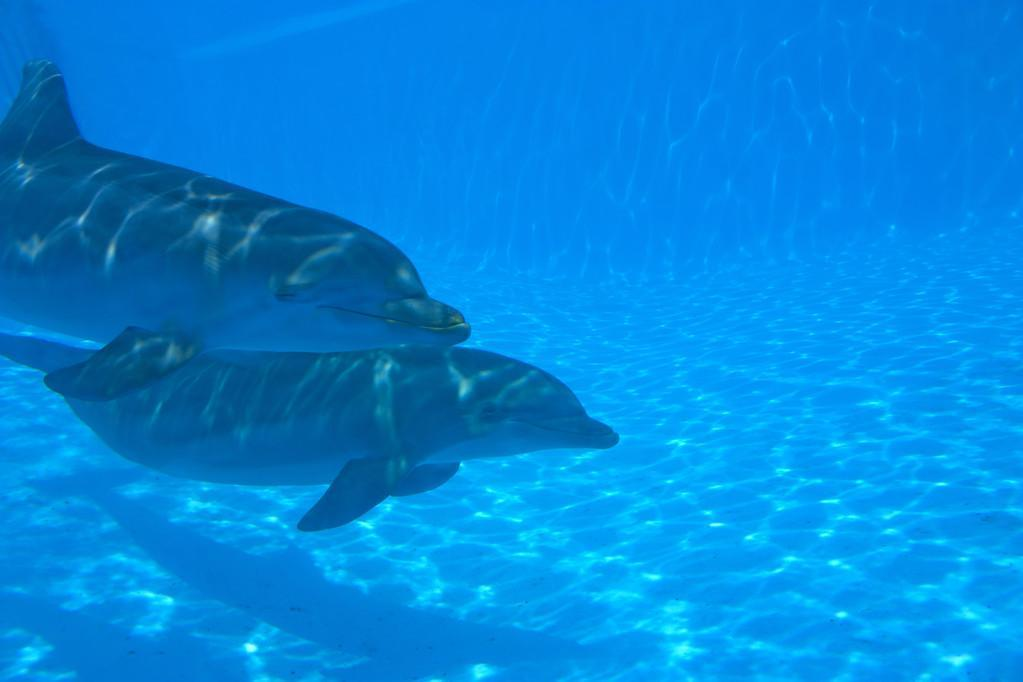fish: (1, 59, 477, 355), (11, 321, 623, 533)
